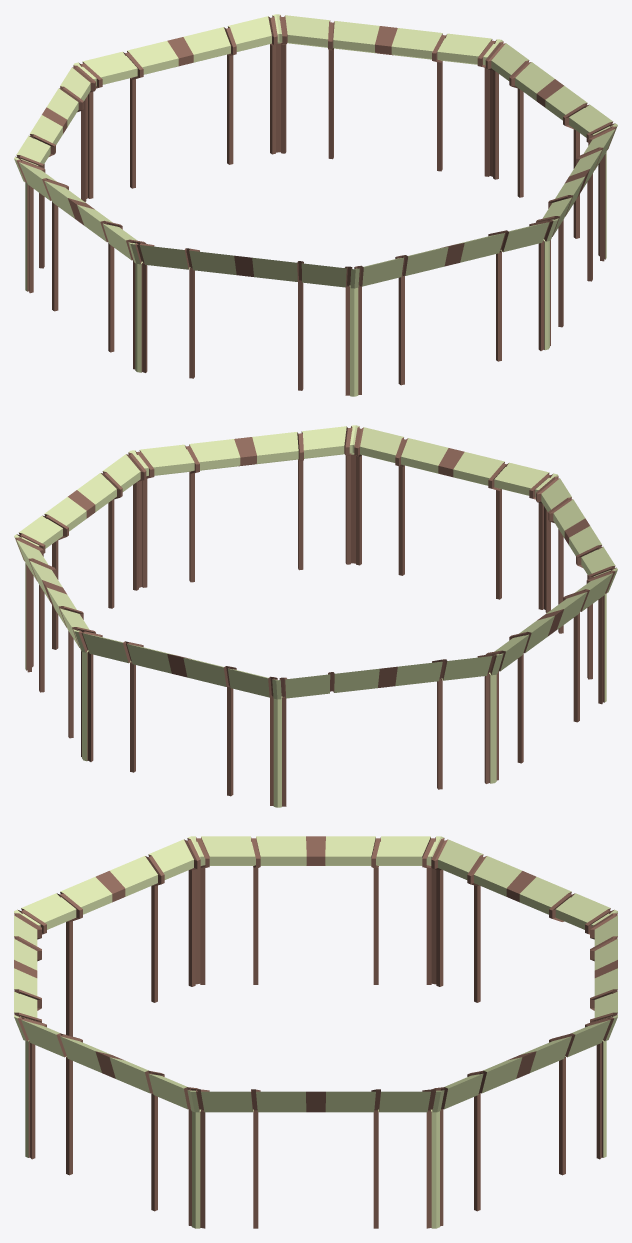
The model's file is Dragonfly_Gears_Rooftop_AimAssist.fbx.
3 renders of one model, top to bottom at view 1: azimuth 30°, elevation 25°; view 2: azimuth 150°, elevation 25°; view 3: azimuth 270°, elevation 25°, orthographic. The views are drawn at different scales.
Visible parts, largest first — view 1: Rooftop_Aim_Assist; view 2: Rooftop_Aim_Assist; view 3: Rooftop_Aim_Assist.
Part boxes in pixels (x1,y1,x2,y2): Rooftop_Aim_Assist: (14, 14, 617, 396); Rooftop_Aim_Assist: (14, 425, 617, 807); Rooftop_Aim_Assist: (14, 836, 617, 1228).
Bounding box in the file's own units: 155 × 40.08 × 155.
